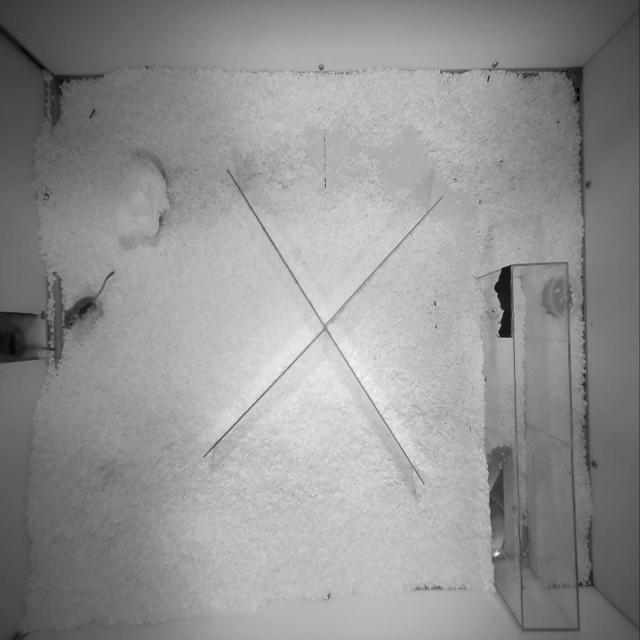pup_h_stripe: (0, 325, 39, 358)
pup_v_stripe: (64, 271, 114, 329)
